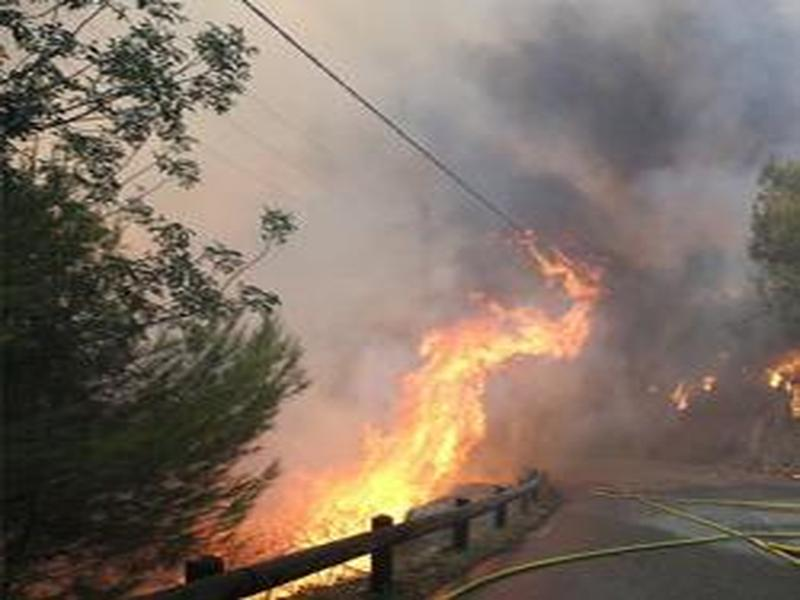FIRE: (203, 220, 654, 600)
